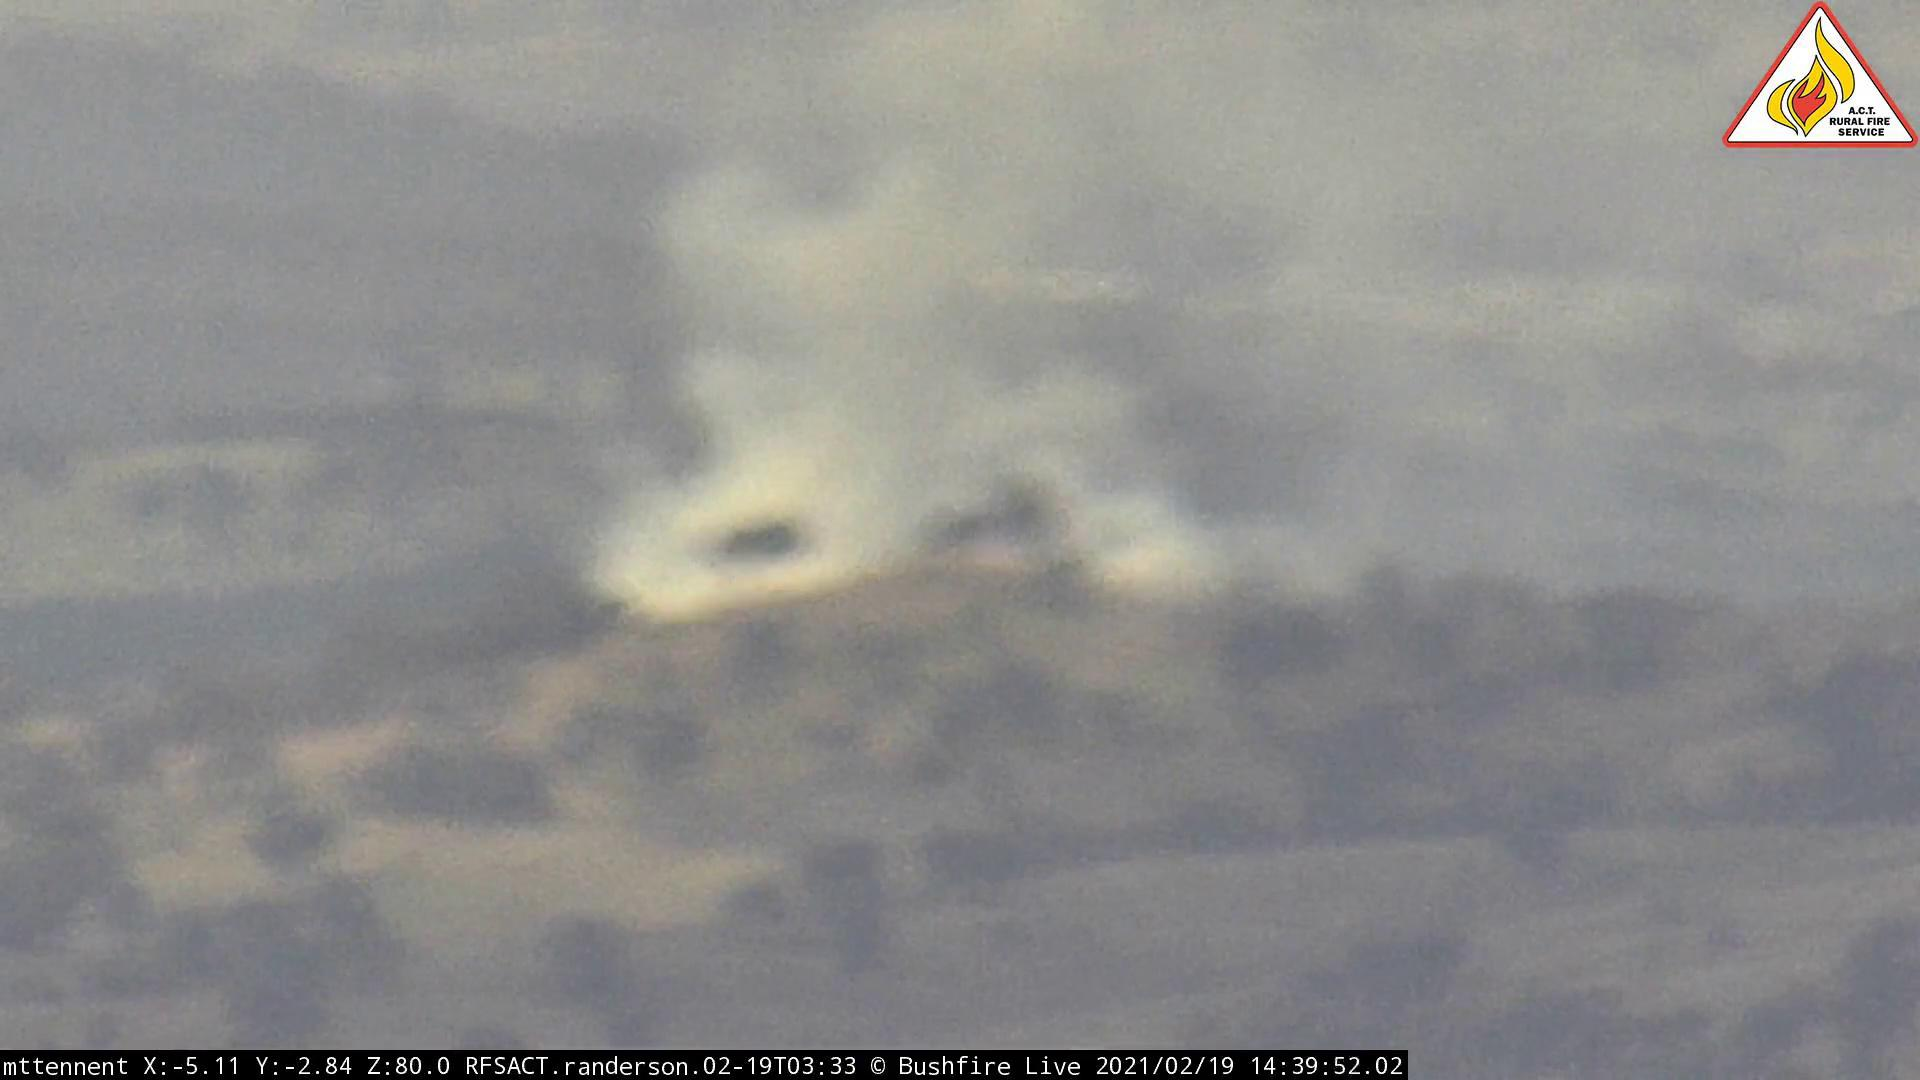instance_salient_object: (575, 156, 1247, 651)
